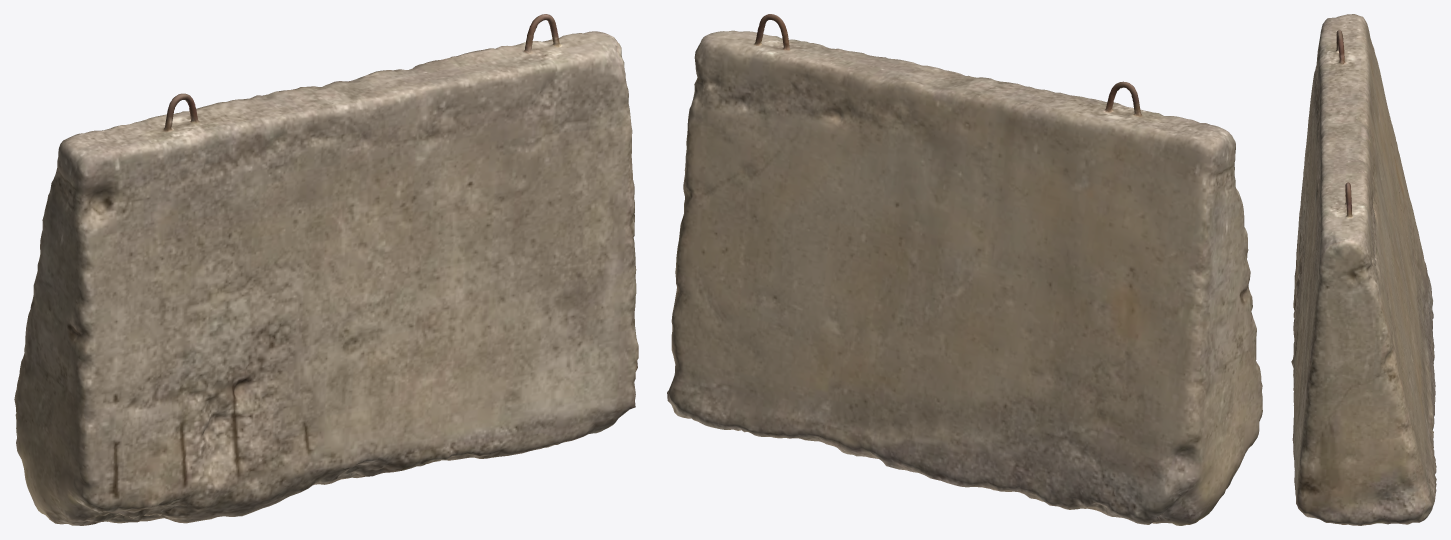
Rendered from barrier.glb.
3 renders of one model, left to right at view 1: azimuth 30°, elevation 25°; view 2: azimuth 150°, elevation 25°; view 3: azimuth 270°, elevation 25°, orthographic. The views are drawn at different scales.
Parts seen in each view (by area): view 1: concrete_road_barrier_02; view 2: concrete_road_barrier_02; view 3: concrete_road_barrier_02.
Part boxes in pixels (left/top/right/bottom): concrete_road_barrier_02: left=14, top=14, right=638, bottom=525; concrete_road_barrier_02: left=667, top=14, right=1262, bottom=525; concrete_road_barrier_02: left=1291, top=14, right=1436, bottom=525.
Size of the model in its own units: 1.57 by 1.11 by 0.4422.
Materials: 1 (1 with a texture image).
